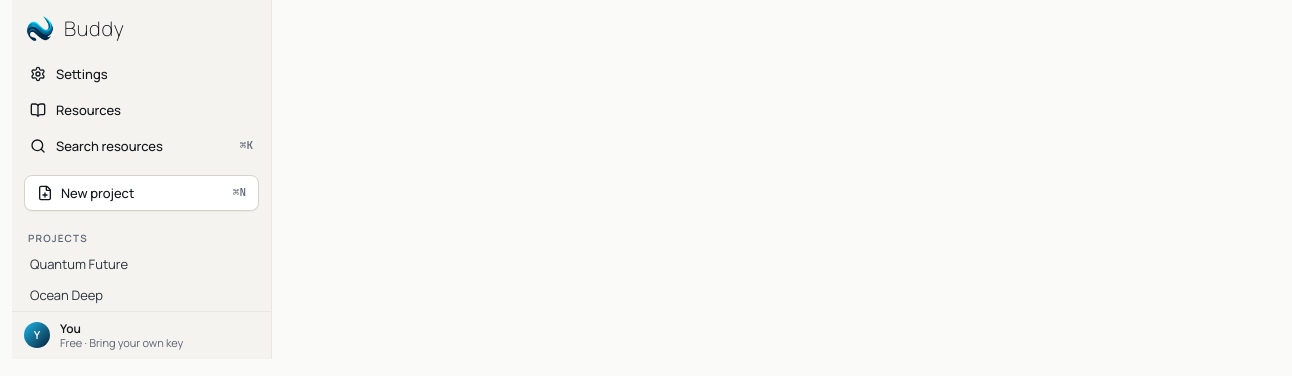
Scenario: Sidebar — project context menu › hides the context menu when clicking elsewhere
This screenshot has width=1292, height=376.
Right-click the button "Quantum Future" at (142, 264), box [20, 250, 263, 280]
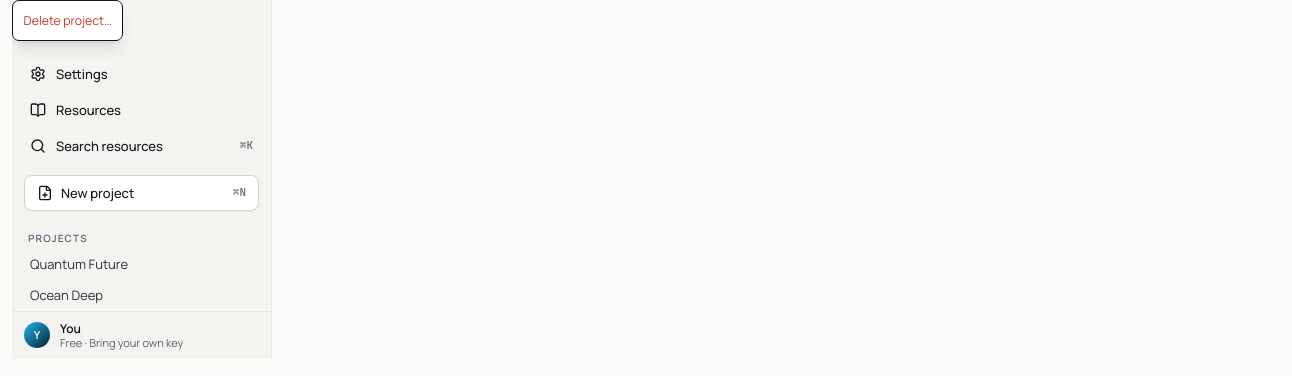
Click the element that starts with "Buddy" at (652, 180), box [12, 0, 1291, 359]
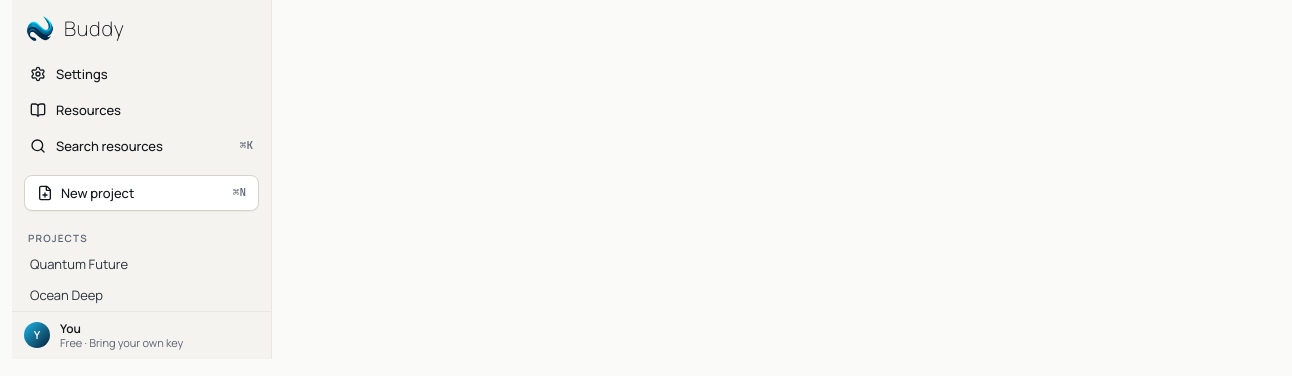
Now the menu item "Delete project" is gone
